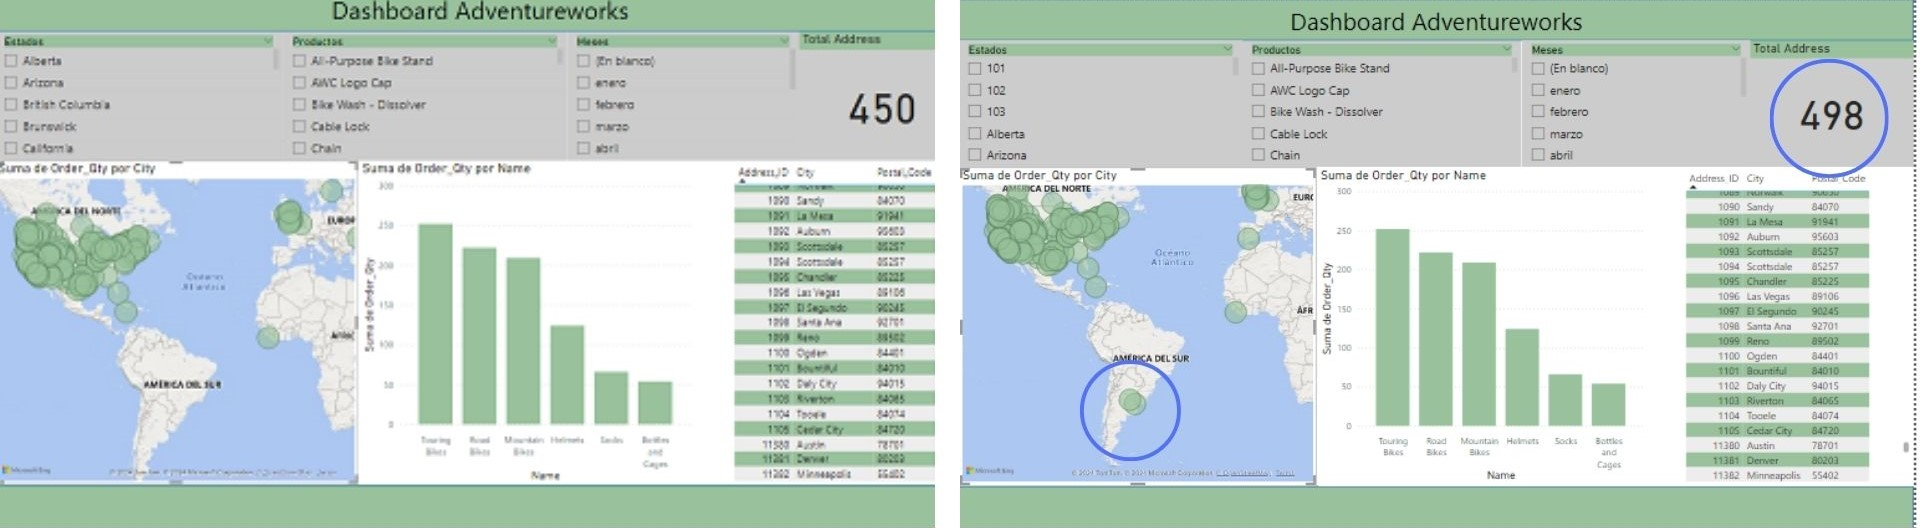

The dashboard page shown, as its layout file describes it:
{"tool":"powerbi","page":{"name":"Página 1","canvas":[1280,720],"ordinal":0},"visuals":[{"type":"map","fields":{"Category":["Address.City"],"Size":["Sum(SalesOrderDetail.Order_Qty)"]},"box":[0,225.7,480,427.1],"z":0},{"type":"clusteredColumnChart","fields":{"Category":["ProductCategory.Name"],"Y":["Sum(SalesOrderDetail.Order_Qty)"]},"box":[480,225.7,442.9,427.1],"z":1000},{"type":"card","fields":{"Values":["CountNonNull(Customer.Customer_ID)"]},"box":[1097.1,225.7,182.9,150],"z":2000},{"type":"slicer","fields":{"Values":["Product.Name"]},"box":[380,55.7,374.3,170],"z":3000},{"type":"card","title":"Total Address","fields":{"Values":["CountNonNull(Address.Address_ID)"]},"box":[1060,55.7,220,170],"z":4000},{"type":"tableEx","fields":{"Values":["Address.Address_ID","Address.City","Address.Postal_Code"]},"box":[968.6,225.7,311.4,427.1],"z":5000},{"type":"shape","box":[0,0,1280,55.7],"z":6000},{"type":"shape","box":[0,652.9,1280,67.1],"z":7000},{"type":"slicer","fields":{"Values":["Address.State_Province"]},"box":[0,55.7,380,170],"z":8000},{"type":"slicer","fields":{"Values":["SalesOrderHeader.Due_Date.Variación.Jerarquía de fechas.Mes"]},"box":[754.3,55.7,305.7,170],"z":9000}]}

Visuals, with their boxes in screenshot pixels (x1, y1, x2, y2):
map - Address.City x Sum(SalesOrderDetail.Order_Qty): 605/164/953/474
clusteredColumnChart - ProductCategory.Name x Sum(SalesOrderDetail.Order_Qty): 953/164/1275/474
card - CountNonNull(Customer.Customer_ID): 1401/164/1534/273
slicer - Product.Name: 881/40/1153/164
"Total Address" card: 1374/40/1534/164
tableEx - Address.Address_ID x Address.City: 1308/164/1534/474
shape: 605/0/1534/40
shape: 605/474/1534/523
slicer - Address.State_Province: 605/40/881/164
slicer - SalesOrderHeader.Due_Date.Variación.Jerarquía de fechas.Mes: 1153/40/1374/164
